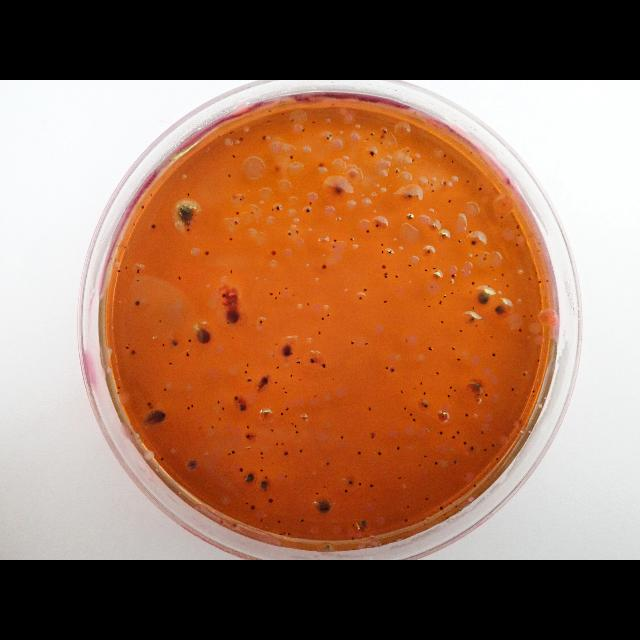colony: (175, 200, 199, 227), (142, 409, 166, 425), (196, 327, 212, 345), (316, 499, 332, 515), (224, 308, 240, 324), (477, 289, 491, 305), (186, 458, 198, 472), (281, 343, 293, 357), (258, 376, 268, 388), (495, 304, 505, 316), (245, 472, 255, 483), (333, 185, 343, 195), (171, 338, 179, 348), (405, 213, 415, 221), (260, 479, 268, 488), (238, 404, 246, 412), (405, 191, 413, 199), (422, 402, 430, 408), (380, 127, 388, 133), (394, 168, 400, 176), (150, 223, 156, 230), (140, 204, 146, 210), (204, 250, 210, 256), (134, 300, 140, 306), (283, 450, 289, 456), (321, 363, 327, 369), (469, 316, 475, 322), (370, 432, 376, 438), (361, 519, 367, 525), (470, 239, 476, 245), (440, 232, 446, 238), (322, 264, 328, 270), (270, 250, 276, 256), (369, 151, 375, 157), (233, 219, 239, 225), (228, 236, 234, 242), (116, 384, 122, 390), (390, 367, 394, 375), (186, 227, 190, 233), (132, 349, 136, 355), (147, 400, 151, 406), (246, 378, 252, 382), (318, 330, 322, 336), (310, 358, 314, 364), (350, 340, 354, 346), (452, 460, 458, 464), (492, 352, 496, 358), (268, 498, 272, 504), (250, 506, 256, 510), (458, 238, 462, 244), (478, 186, 482, 192), (443, 180, 447, 186), (426, 249, 432, 253), (382, 264, 386, 270), (388, 248, 392, 254), (306, 208, 312, 212), (276, 204, 280, 210), (232, 153, 236, 159), (289, 154, 293, 160), (262, 135, 266, 141), (240, 136, 244, 142), (178, 275, 182, 281), (222, 292, 226, 298), (368, 406, 372, 412), (160, 456, 164, 462), (187, 351, 190, 357), (341, 434, 344, 440), (132, 222, 136, 226), (187, 192, 191, 196), (124, 266, 128, 270), (188, 339, 192, 343), (125, 346, 129, 350), (168, 362, 172, 366), (232, 450, 236, 454), (228, 452, 232, 456), (239, 468, 243, 472), (295, 430, 299, 434), (270, 428, 274, 432), (246, 434, 250, 438), (280, 412, 284, 416), (364, 342, 368, 346), (422, 391, 426, 395), (412, 418, 416, 422), (439, 431, 443, 435), (456, 430, 460, 434), (463, 441, 467, 445), (470, 446, 474, 450), (434, 461, 438, 465), (423, 454, 427, 458), (418, 463, 422, 467), (495, 457, 499, 461), (484, 393, 488, 397), (428, 346, 432, 350), (459, 329, 463, 333), (383, 300, 387, 304), (451, 274, 455, 278), (443, 294, 447, 298), (471, 282, 475, 286), (528, 277, 532, 281), (538, 280, 542, 284), (522, 314, 526, 318), (518, 328, 522, 332), (378, 451, 382, 455), (349, 480, 353, 484), (344, 489, 348, 493), (358, 451, 362, 455), (326, 462, 330, 466), (284, 474, 288, 478), (233, 523, 237, 527), (326, 544, 330, 548), (404, 518, 408, 522), (406, 505, 410, 509), (439, 506, 443, 510), (446, 516, 450, 520), (474, 254, 478, 258), (516, 224, 520, 228), (448, 199, 452, 203), (468, 230, 472, 234), (408, 264, 412, 268), (424, 268, 428, 272), (432, 266, 436, 270), (384, 275, 388, 279), (384, 272, 388, 276), (366, 229, 370, 233), (350, 237, 354, 241), (333, 239, 337, 243), (287, 232, 291, 236), (227, 174, 231, 178), (301, 128, 305, 132), (268, 109, 272, 113), (267, 120, 271, 124), (328, 134, 332, 138), (380, 135, 384, 139), (370, 132, 374, 136), (406, 149, 410, 153), (443, 154, 447, 158), (450, 160, 454, 164), (235, 211, 239, 215), (259, 320, 263, 324), (269, 292, 273, 296), (278, 291, 282, 295), (284, 286, 288, 290), (306, 302, 310, 306), (404, 338, 408, 342), (219, 416, 221, 422), (260, 456, 264, 459), (300, 448, 302, 454), (247, 425, 250, 429), (235, 396, 238, 400), (274, 381, 278, 384), (481, 430, 484, 434), (456, 358, 459, 362), (441, 320, 444, 324), (451, 291, 454, 295), (481, 317, 484, 321), (396, 446, 399, 450), (398, 476, 402, 479), (351, 537, 354, 541), (431, 182, 433, 188), (232, 194, 235, 198), (292, 117, 294, 123), (326, 136, 329, 140), (230, 269, 232, 275), (227, 321, 230, 325), (326, 313, 329, 317), (245, 371, 248, 374), (426, 180, 429, 183), (150, 193, 152, 197), (118, 269, 120, 273), (136, 279, 140, 281), (159, 319, 161, 323), (162, 343, 164, 347), (192, 404, 194, 408), (212, 425, 214, 429), (222, 407, 224, 411), (218, 400, 220, 404), (260, 468, 262, 472), (265, 475, 267, 479), (260, 452, 264, 454), (276, 442, 278, 446), (294, 424, 296, 428), (292, 422, 294, 426), (286, 407, 288, 411), (290, 374, 292, 378), (272, 354, 274, 358), (296, 361, 300, 363), (386, 366, 388, 370), (420, 381, 422, 385), (401, 390, 403, 394), (404, 406, 406, 410), (410, 412, 412, 416), (484, 448, 486, 452), (492, 443, 494, 447), (474, 484, 476, 488), (512, 387, 514, 391), (532, 390, 536, 392), (522, 374, 526, 376), (466, 413, 468, 417), (448, 394, 450, 398), (454, 388, 456, 392), (452, 346, 454, 350), (476, 324, 478, 328), (364, 288, 366, 292), (360, 296, 362, 300), (440, 300, 442, 304), (438, 302, 442, 304), (472, 306, 474, 310), (506, 284, 508, 288), (502, 273, 504, 277), (545, 280, 549, 282), (533, 394, 535, 398), (359, 482, 361, 486), (300, 520, 304, 522), (288, 532, 290, 536), (260, 518, 262, 522), (352, 523, 354, 527), (425, 498, 429, 500), (485, 253, 487, 257), (483, 258, 487, 260), (490, 266, 494, 268), (515, 244, 519, 246), (396, 274, 398, 278), (382, 250, 384, 254), (380, 244, 384, 246), (376, 223, 378, 227), (296, 230, 298, 234), (272, 208, 274, 212), (312, 120, 314, 124), (282, 112, 284, 116), (380, 141, 382, 145), (365, 138, 369, 140), (412, 158, 414, 162), (230, 131, 232, 135), (232, 130, 234, 134), (250, 212, 254, 214), (275, 296, 277, 300), (322, 317, 324, 321), (332, 246, 336, 248), (130, 431, 132, 435), (116, 392, 120, 394), (188, 406, 190, 409), (283, 386, 285, 389), (277, 366, 279, 369), (501, 216, 504, 218), (137, 269, 139, 271), (137, 271, 139, 273), (164, 388, 166, 390), (285, 392, 287, 394), (299, 379, 301, 381), (247, 364, 249, 366), (296, 357, 298, 359), (452, 436, 454, 438), (450, 386, 452, 388), (436, 372, 438, 374), (428, 305, 430, 307), (488, 286, 490, 288), (490, 336, 492, 338), (538, 360, 540, 362), (370, 484, 372, 486), (324, 486, 326, 488), (316, 492, 318, 494), (278, 520, 280, 522), (283, 532, 285, 534), (280, 533, 282, 535), (246, 502, 248, 504), (455, 505, 457, 507), (450, 502, 452, 504), (518, 234, 520, 236), (467, 180, 469, 182), (432, 190, 434, 192), (310, 202, 312, 204), (240, 198, 242, 200)
